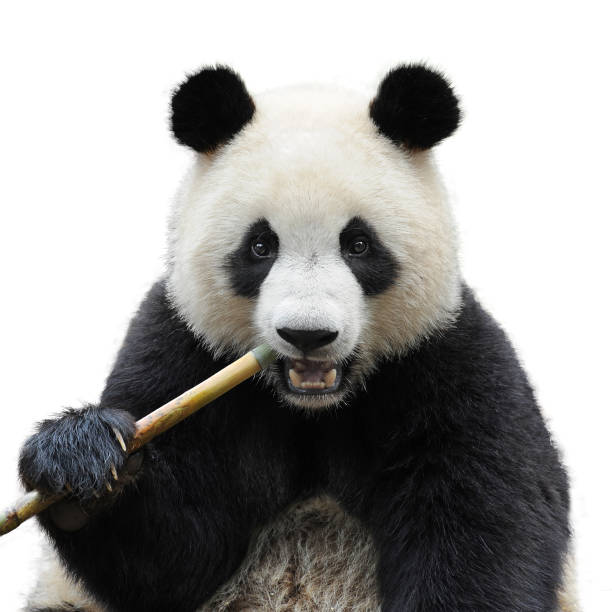panda: (99, 47, 485, 422)
